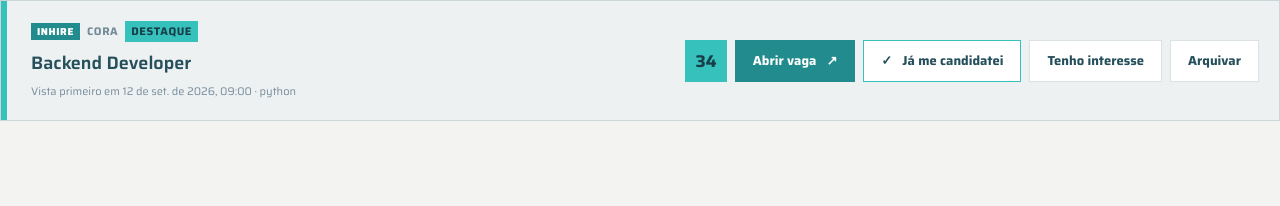
Scenario: open job, inline prompt and desktop bridge › inside the desktop app an InHire job opens through the bridge instead of the link
This screenshot has width=1280, height=206.
Click the link "Abrir vaga ↗". click: (795, 60)
box: [735,40,855,82]
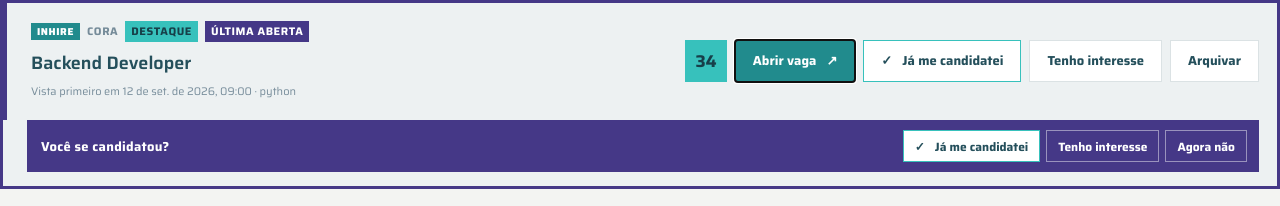
Now the text "Você se candidatou?" is shown, box [41,136,170,156]
